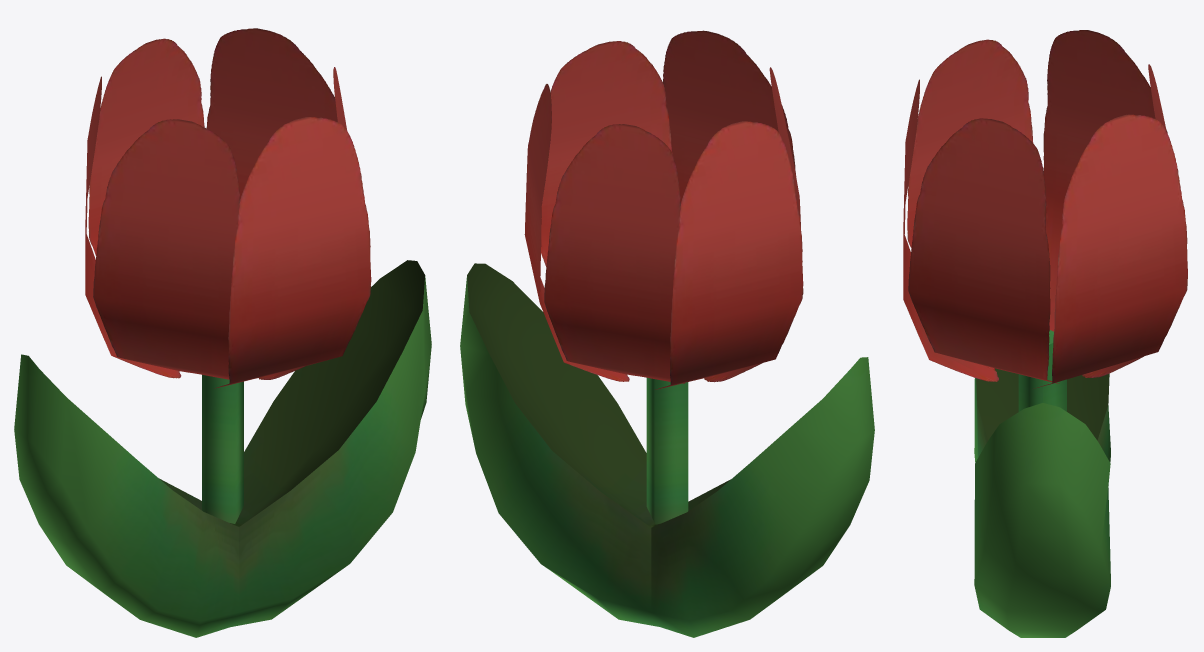
File: rose-transformed.glb
The picture shows the model from 3 angles, left to right: view 1: azimuth 30°, elevation 25°; view 2: azimuth 150°, elevation 25°; view 3: azimuth 270°, elevation 25°; orthographic projection.
Parts seen in each view (by area): view 1: rose; view 2: rose; view 3: rose.
Boxes of the visible parts, bbox=[...] form: rose: bbox=[14, 28, 431, 637]; rose: bbox=[460, 30, 874, 637]; rose: bbox=[903, 30, 1187, 637].
Bounding box in the file's own units: 0.4438 × 0.5778 × 0.2757.
1 material, 1 textured.
